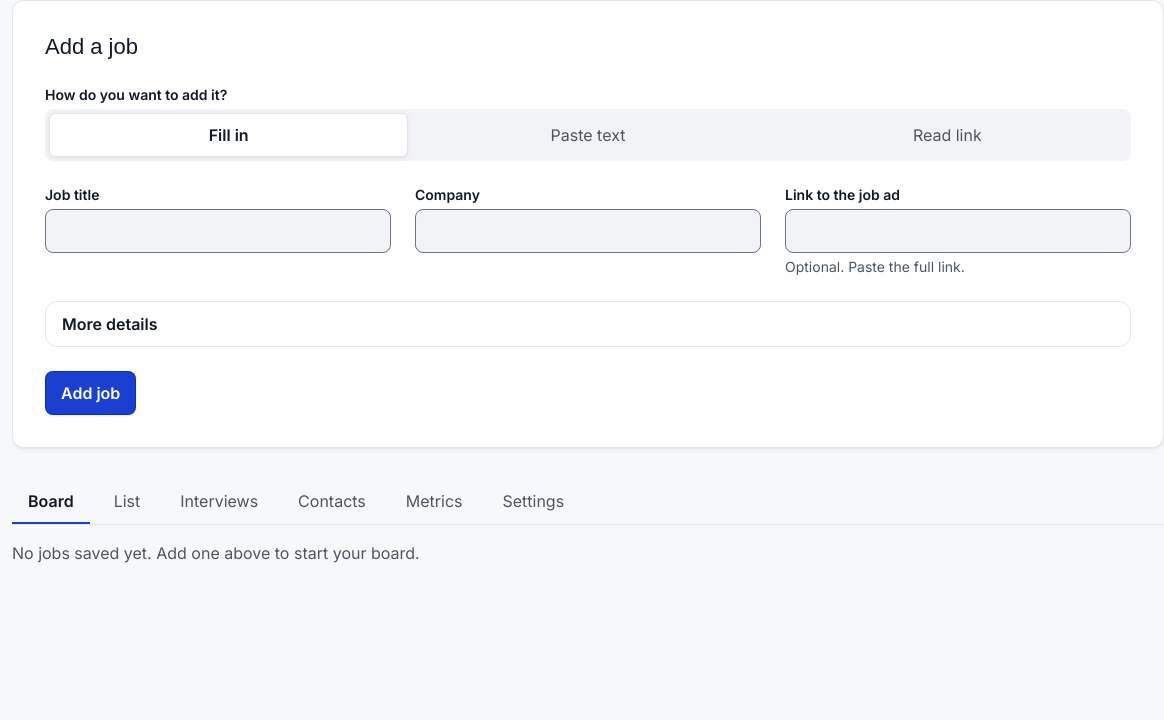
Test case: TrackerShell board › asks for a title and company and rejects a bad link
expect the text "No jobs saved yet. Add one above to start your board." is shown: met, box [12,542,420,562]
Type "not a link" into the field labelled "Link to the job ad" at (958, 230), box [785,208,1131,252]
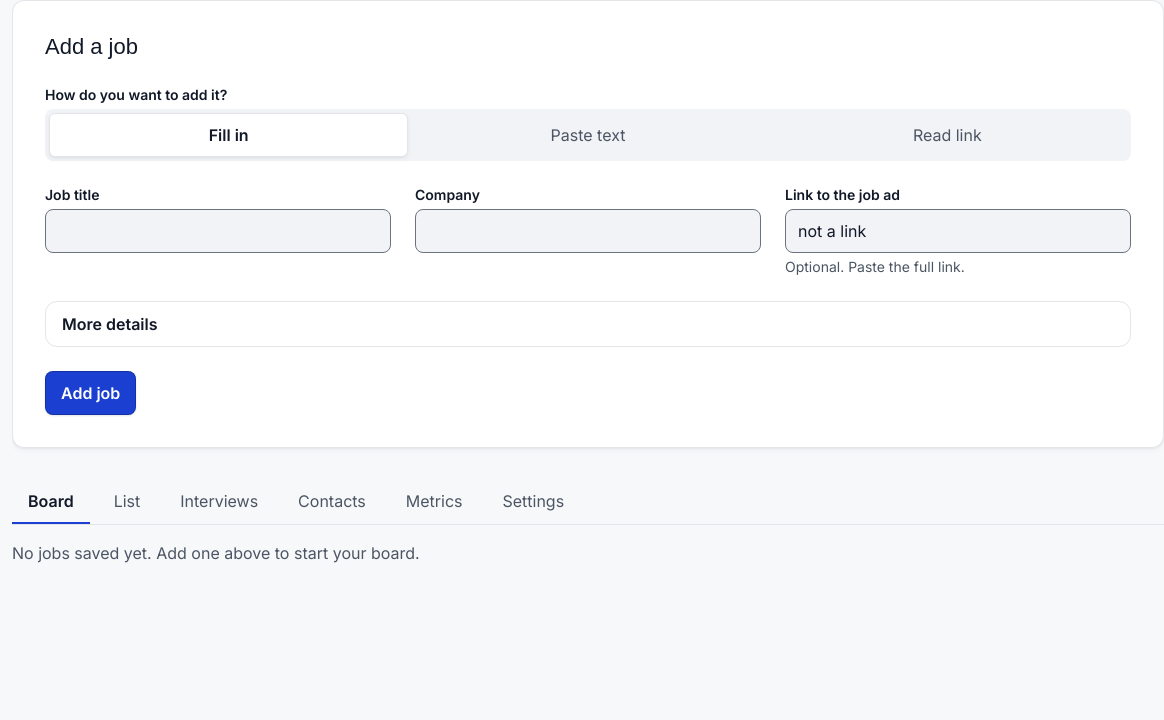
Click the button "Add job" at (91, 392), box [45,370,136,414]
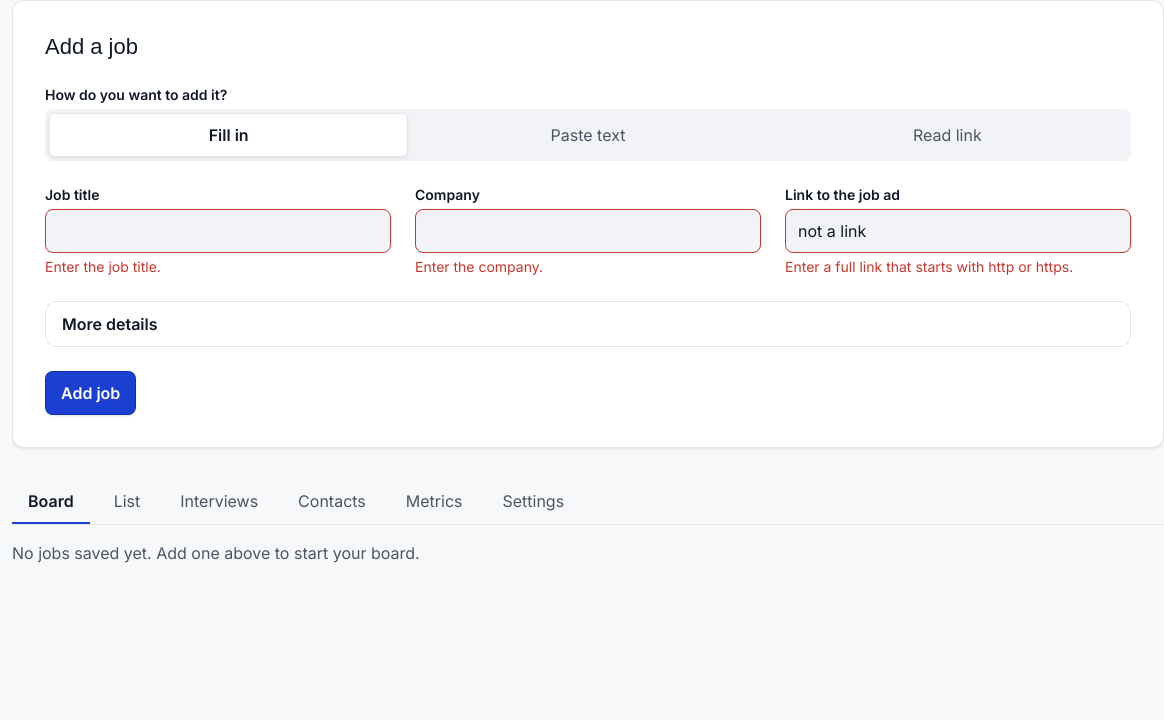
expect the text "Enter the job title." is shown: met, box [45,258,161,274]
expect the text "Enter the company." is shown: met, box [415,258,543,274]
expect the text "Enter a full link that starts with http or https." is shown: met, box [785,258,1073,274]
